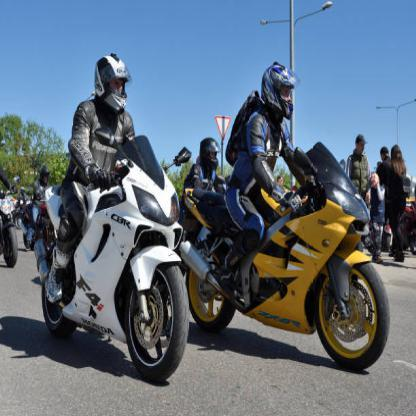Motorcycle: (18, 132, 199, 392), (187, 156, 392, 374)
